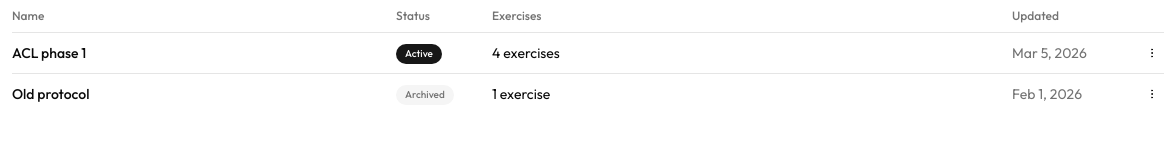
TemplateList › says so when duplicating fails and does not navigate
Click the button named "Actions for ACL phase 1".
click(1152, 53)  # box [1140,41,1164,65]
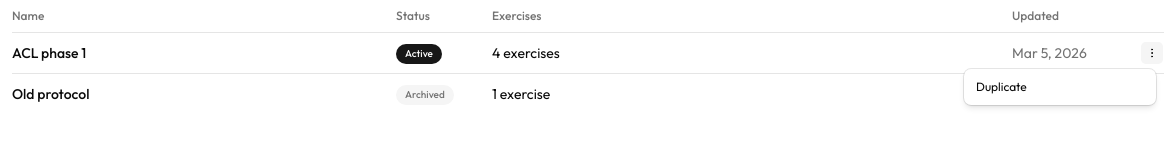
Click the menu item "Duplicate".
click(1001, 87)  # box [976,79,1027,94]
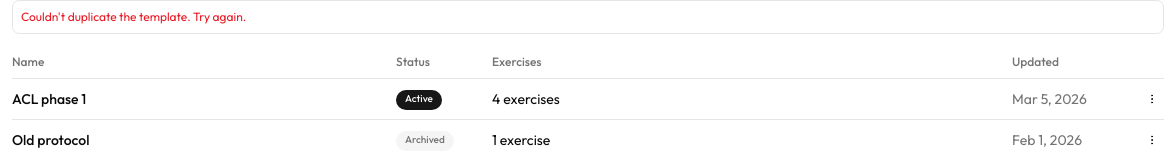
Expected: the message reads "Couldn't duplicate the template. Try again.", [21,9,246,24]
